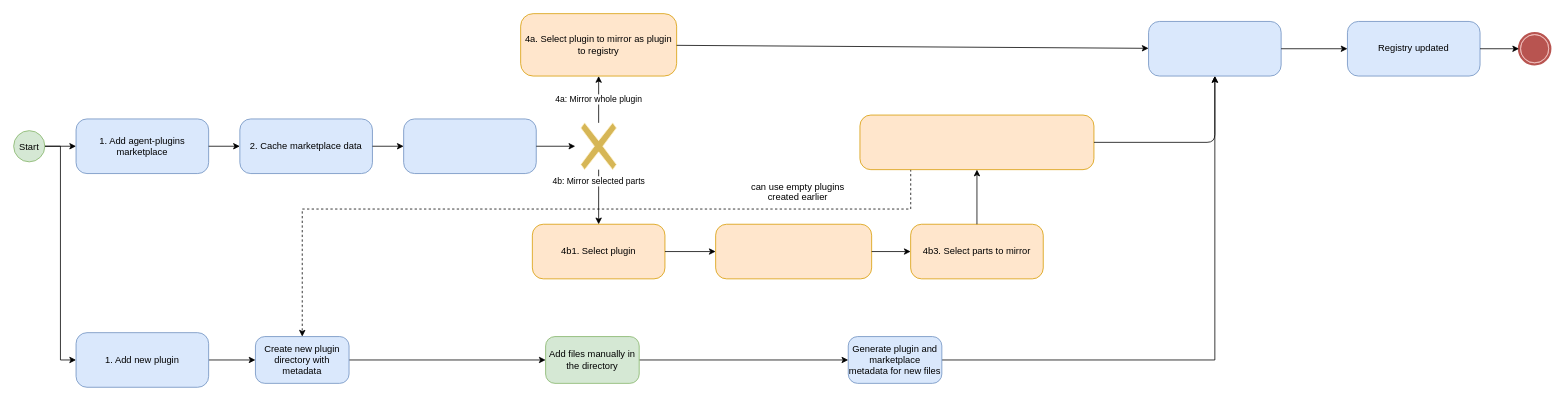
Some shapes in this 1564 by 401 pixel diagram are drawn without their labels. The box of each missing label's shape, as (x1, y1, x2, y2) in pixels:
3. Show available plugins: (403, 118, 536, 174)
4b2. Show available skills, agents, MCP, hooks: (715, 223, 872, 279)
4b4. Add selected parts to existing plugin or create a new plugin in registry: (859, 114, 1094, 170)
Add plugin to registry: (1148, 21, 1281, 76)
Choose mirroring mode?: (574, 122, 622, 170)
End: (1518, 32, 1550, 64)
